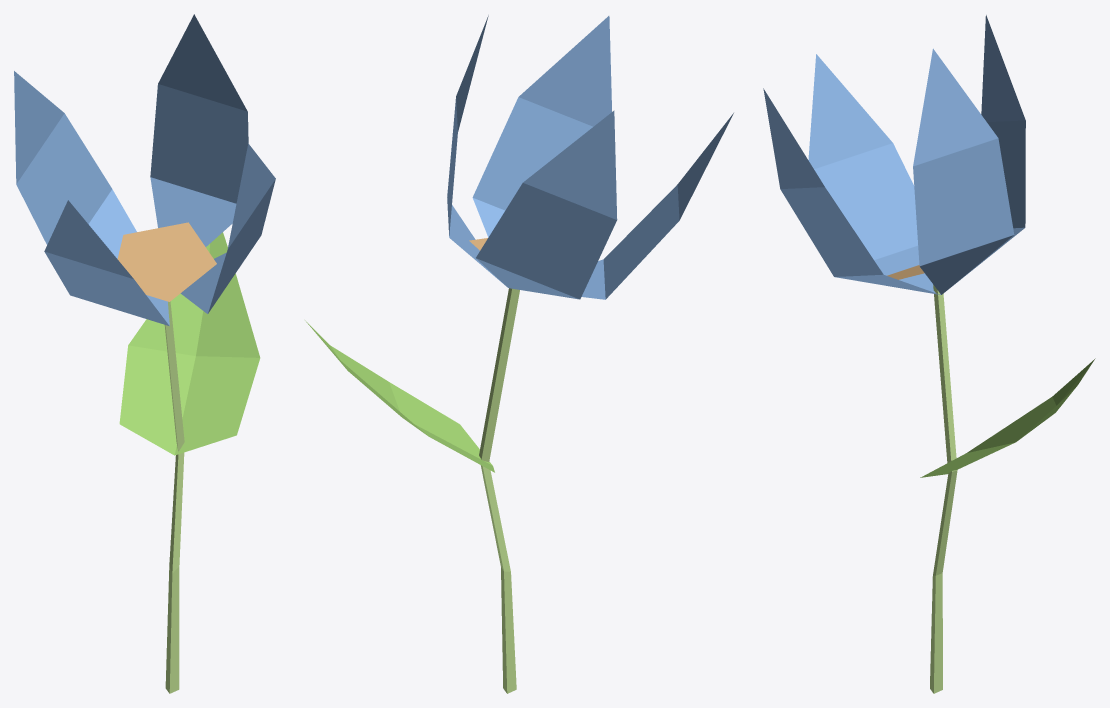
File: Flower_a_OneS_07.fbx
3 views of the same model, side by side, from view 1: azimuth 30°, elevation 25°; view 2: azimuth 150°, elevation 25°; view 3: azimuth 270°, elevation 25° (orthographic). The views are drawn at different scales.
Parts seen in each view (by area): view 1: Flower_a_OneS_07; view 2: Flower_a_OneS_07; view 3: Flower_a_OneS_07.
Boxes of the visible parts, x1,y1,x2,y2 form: Flower_a_OneS_07: (14, 14, 275, 693); Flower_a_OneS_07: (305, 15, 733, 693); Flower_a_OneS_07: (763, 15, 1095, 693).
Size of the model in its own units: 32.34 by 72.21 by 33.33.
